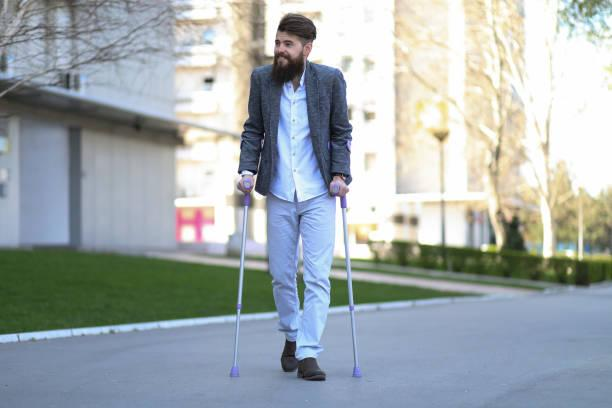crutches: (228, 12, 362, 381)
